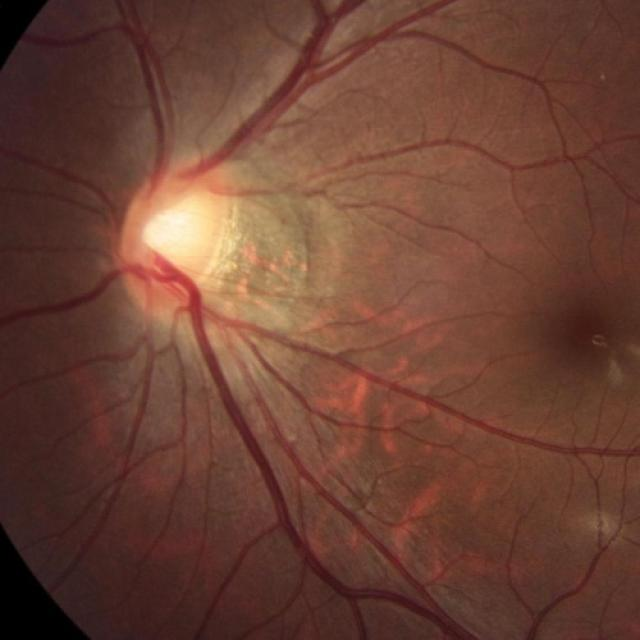OC: (144, 197, 209, 269)
OD: (117, 161, 230, 316)
